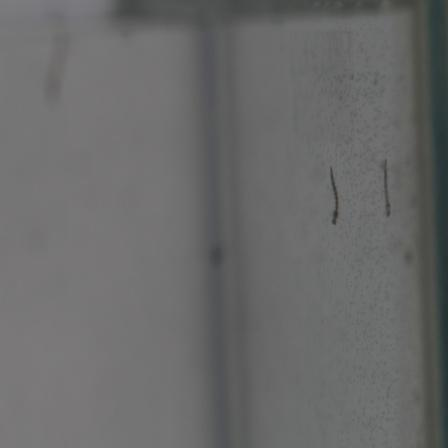Jentik-Nyamuk: (324, 164, 349, 227)
